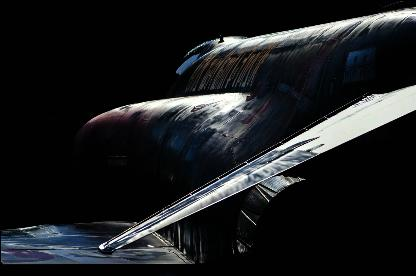F35: (0, 1, 415, 276)
